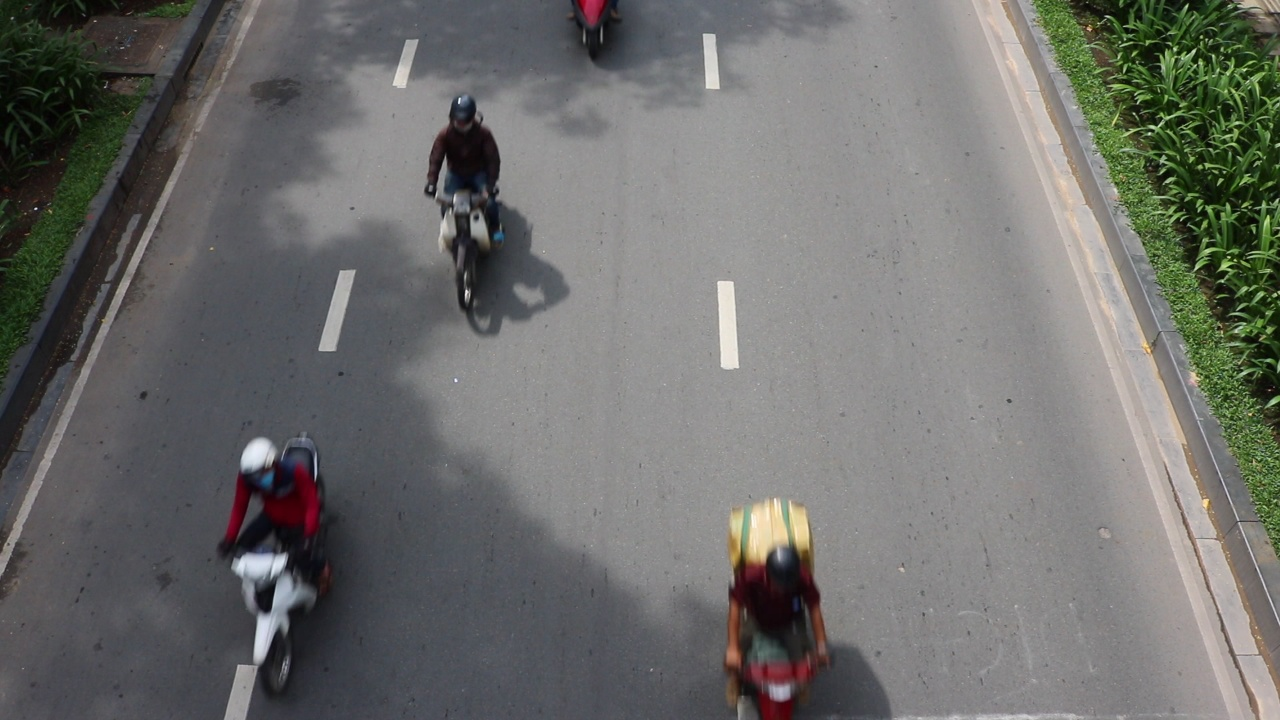motorcycle: (219, 519, 322, 694), (434, 178, 501, 335)
